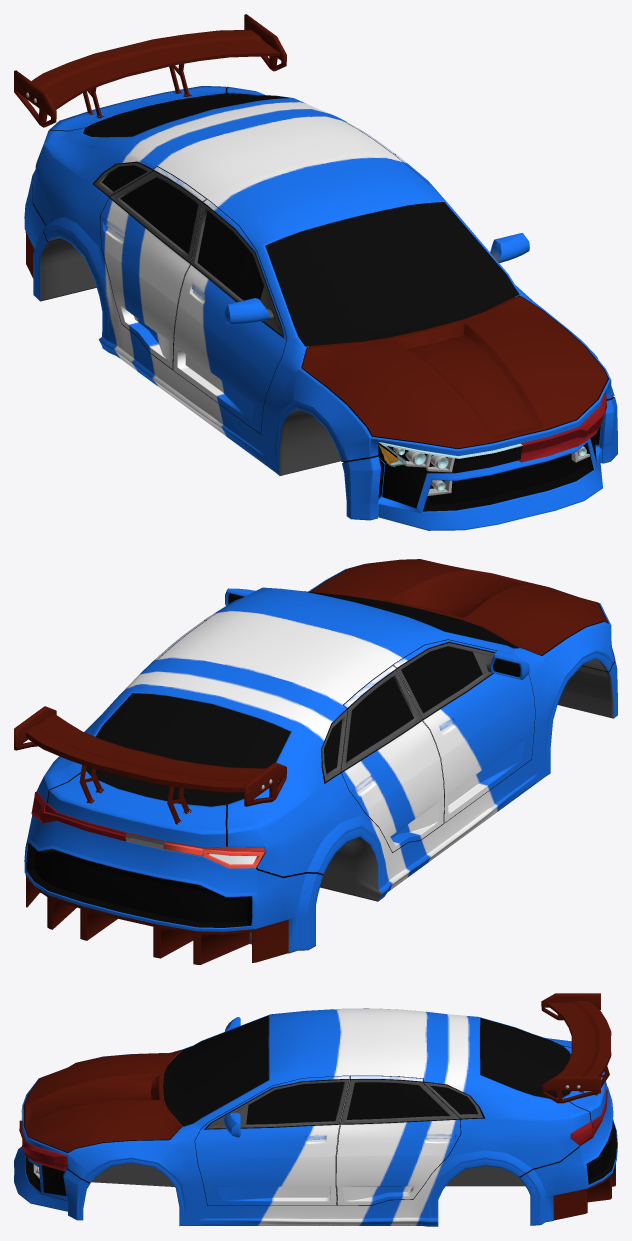
Rendered from car.obj.
3 renders of one model, top to bottom at view 1: azimuth 30°, elevation 25°; view 2: azimuth 150°, elevation 25°; view 3: azimuth 270°, elevation 25°, orthographic. The views are drawn at different scales.
Parts seen in each view (by area): view 1: Car_Body; view 2: Car_Body; view 3: Car_Body.
Part boxes in pixels (box(x1,y1,x2,y2)): Car_Body: box(14, 14, 617, 530); Car_Body: box(14, 559, 617, 964); Car_Body: box(14, 993, 617, 1226).
Bounding box in the file's own units: 2.08 × 1.3 × 4.91.
